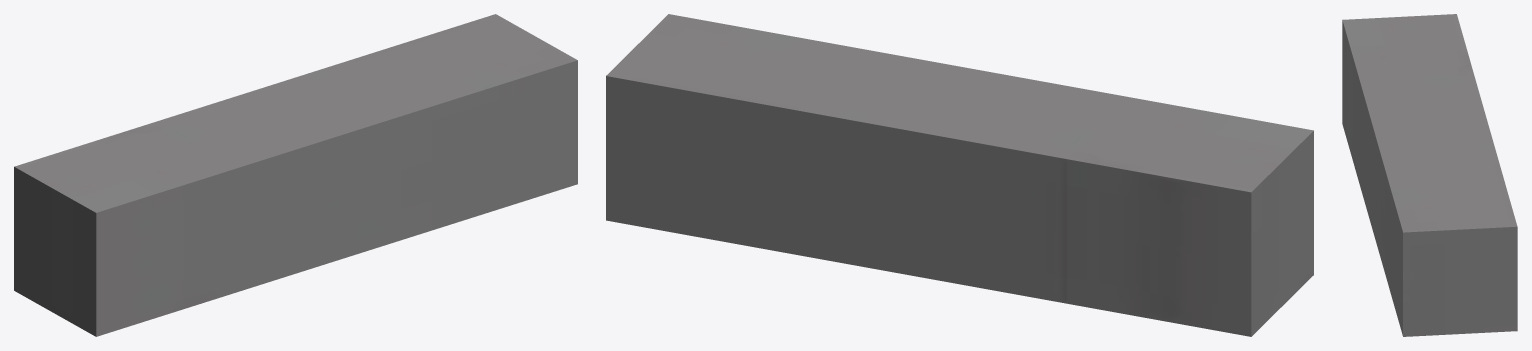
File: frame__rear_brace_1.glb
3 views of the same model, side by side, from view 1: azimuth 30°, elevation 25°; view 2: azimuth 150°, elevation 25°; view 3: azimuth 270°, elevation 25° (orthographic). The views are drawn at different scales.
Parts seen in each view (by area): view 1: world; view 2: world; view 3: world.
Boxes of the visible parts, box(x1,y1,x2,y2) form: world: box(14, 14, 577, 336); world: box(606, 14, 1313, 336); world: box(1342, 14, 1517, 336).
Size of the model in its own units: 0.2244 by 0.05 by 0.076.
Materials: 1 (1 with a texture image).
